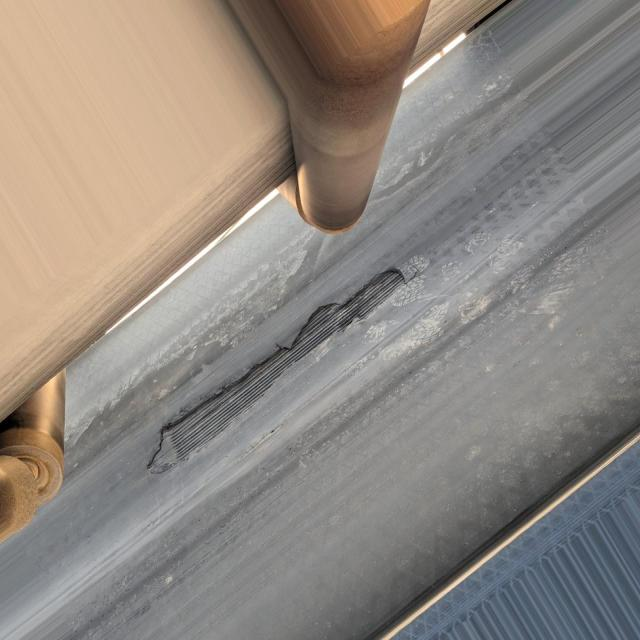Roller: (222, 0, 429, 235), (5, 372, 62, 542)
Tear: (143, 251, 411, 493)
